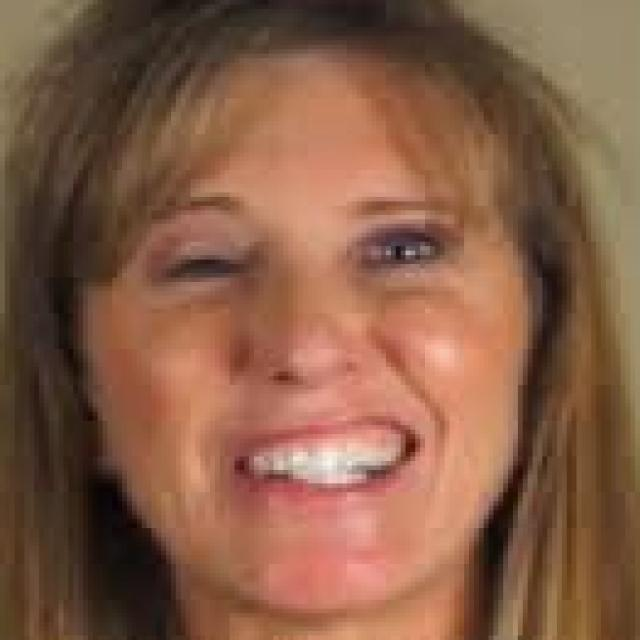stroke_face: (49, 9, 543, 606)
